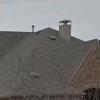Chimney: (54, 13, 86, 52)
